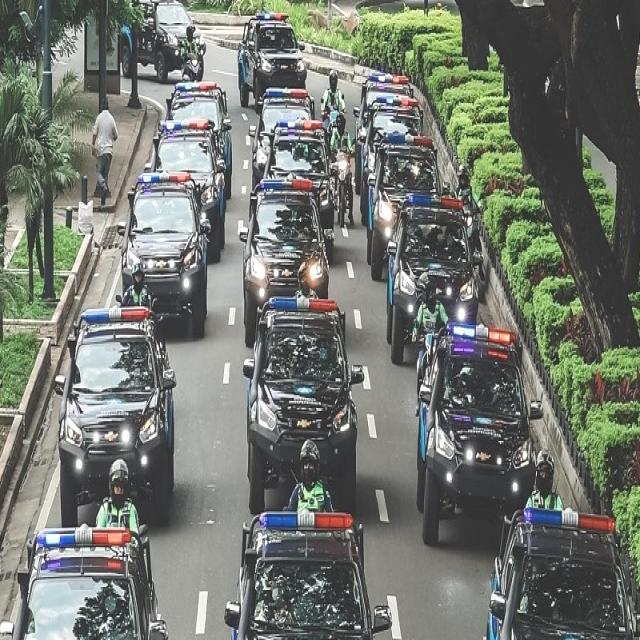CMT: (416, 338, 540, 543), (61, 327, 179, 515), (246, 307, 358, 496), (492, 512, 640, 638), (388, 199, 478, 348), (122, 185, 208, 339), (241, 186, 329, 326), (238, 16, 306, 102)
